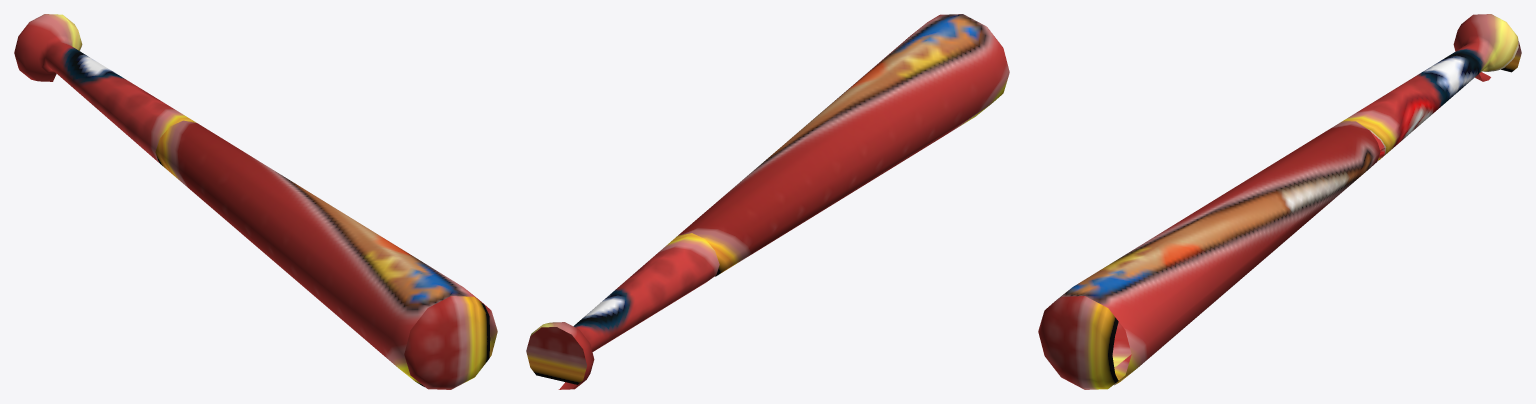
3 views of the same model, side by side, from view 1: azimuth 30°, elevation 25°; view 2: azimuth 150°, elevation 25°; view 3: azimuth 330°, elevation 25° (orthographic).
Parts seen in each view (by area): view 1: mSword; view 2: mSword; view 3: mSword.
Part boxes in pixels (left/top/right/bottom): mSword: left=14, top=14, right=497, bottom=389; mSword: left=526, top=14, right=1009, bottom=389; mSword: left=1038, top=14, right=1521, bottom=389.
Size of the model in its own units: 0.09 by 0.0867 by 0.6756.
